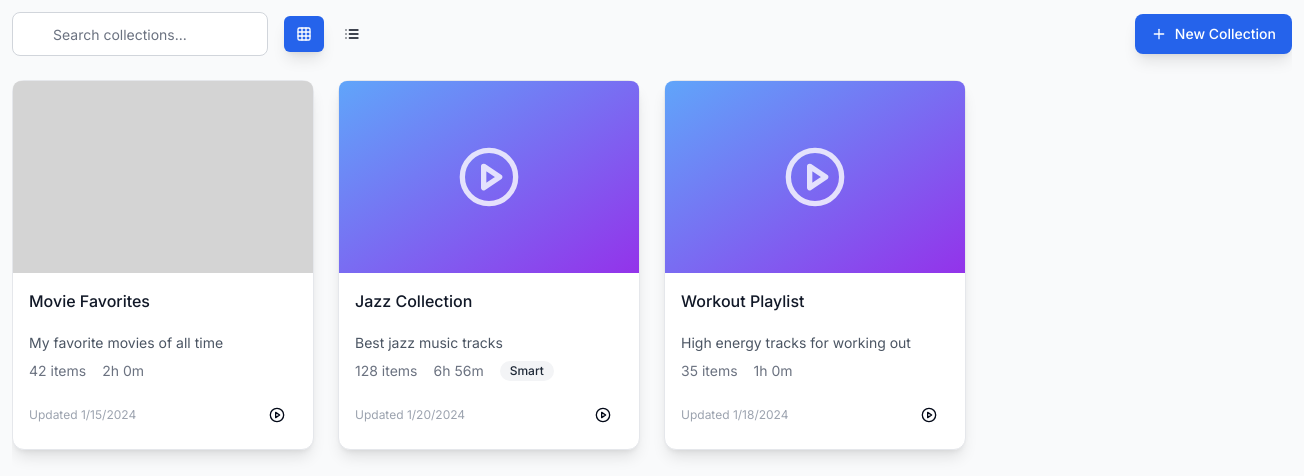
Test: CollectionsManager › shows empty state when no collections match search
Type "xyznonexistent" into the field with placeholder "Search collections..." at (140, 34), box [12, 12, 268, 56]
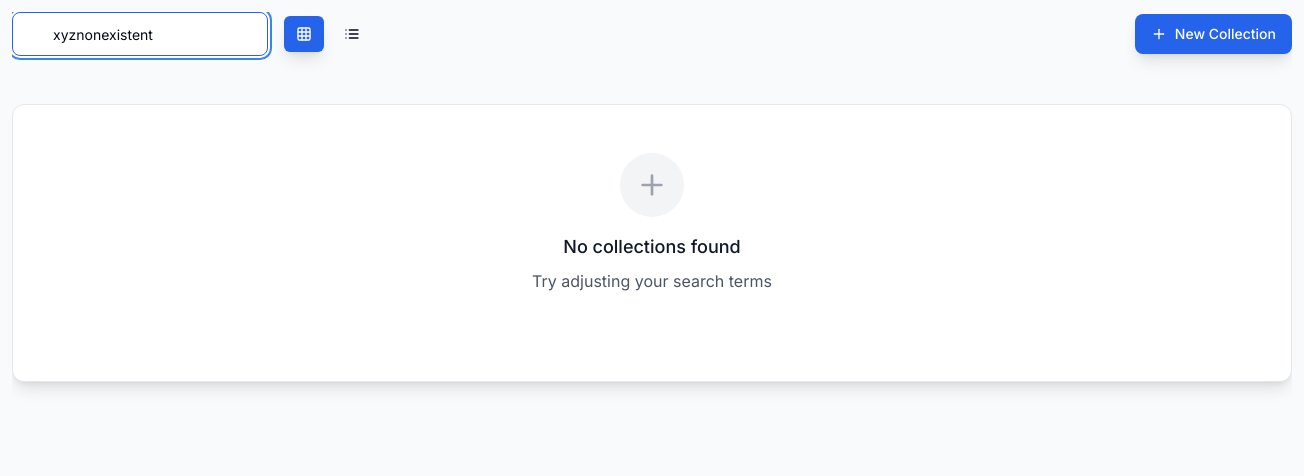
Now the heading "No collections found" is shown, box [563, 236, 741, 257]
Now the text "Try adjusting your search terms" is shown, box [532, 271, 772, 291]
